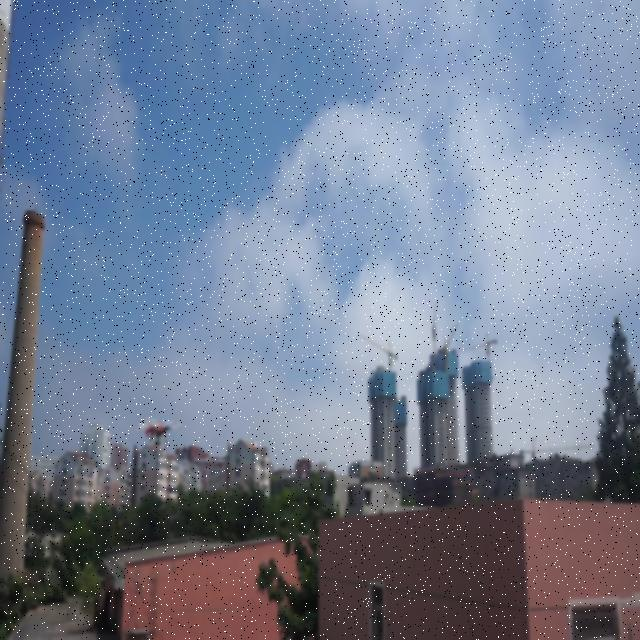UAV: (135, 418, 181, 451)
